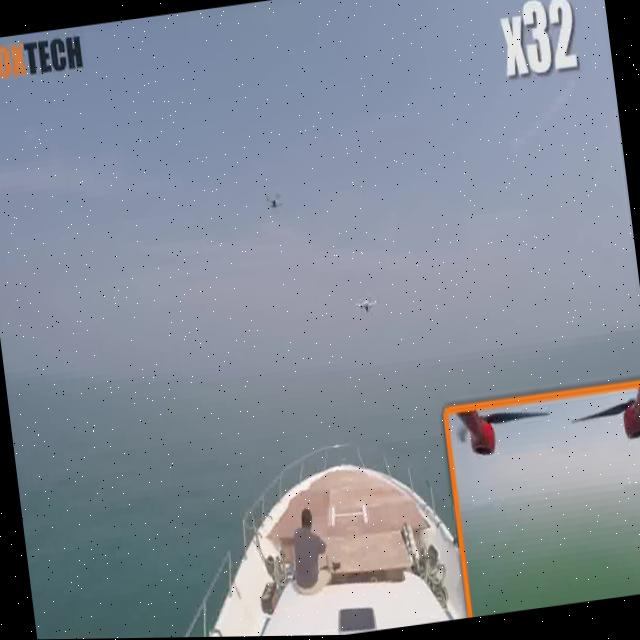drone: (346, 281, 397, 332), (256, 175, 286, 221)
